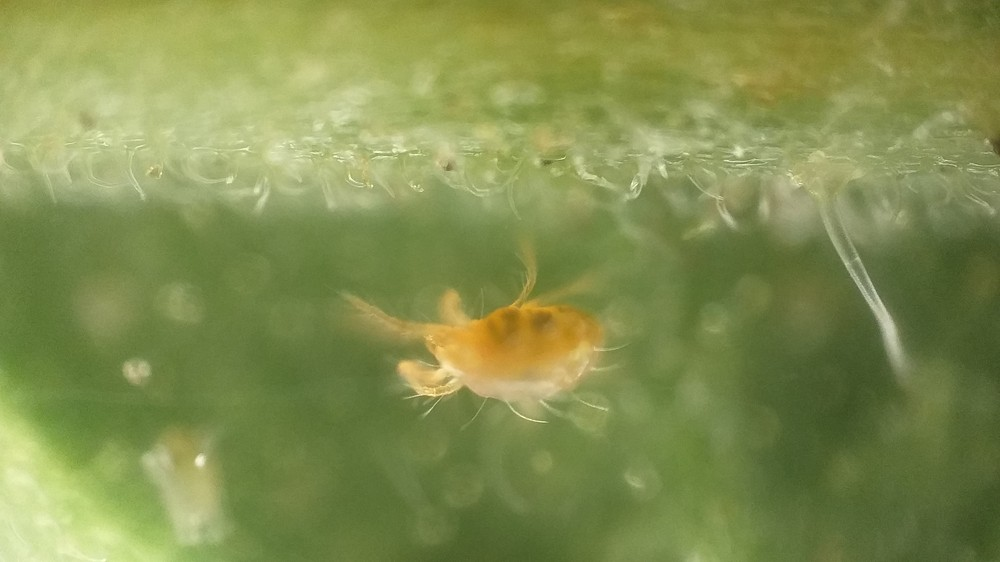Aracnido Rojo: (326, 254, 653, 450)
